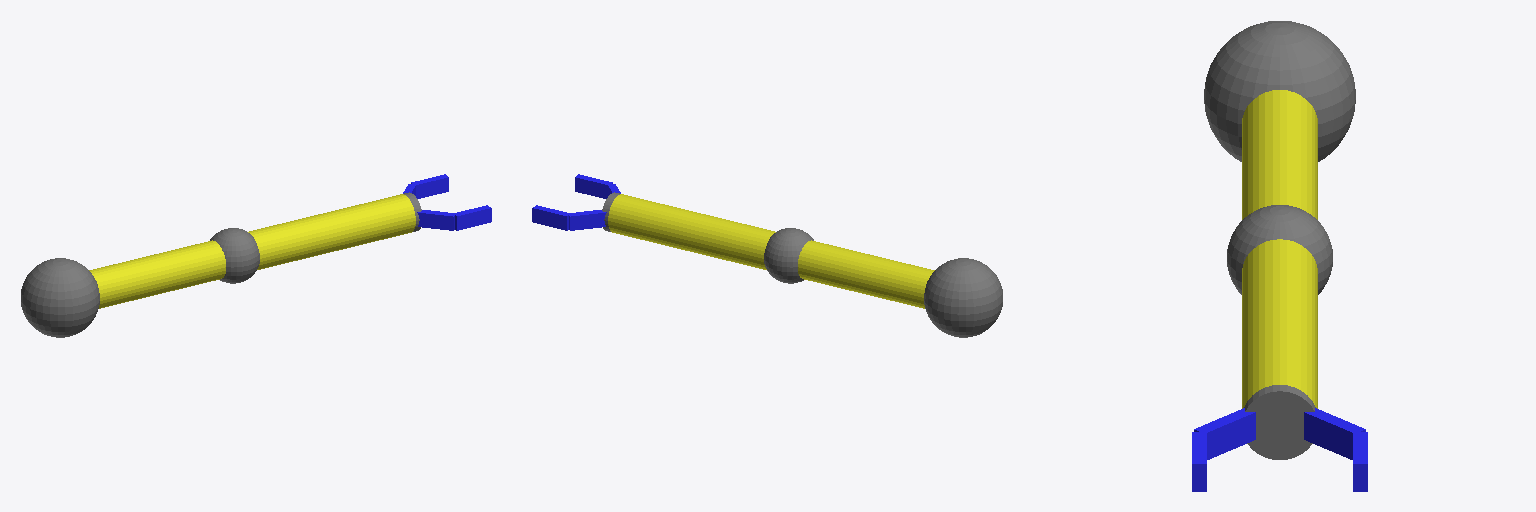
URDF robot description (gripper):
<?xml version="0.0" ?>
<robot name="gripper">

  <material name="c_joint">
    <color rgba="0.5 0.5 0.5 1"/>
  </material>

  <material name="c_arm">
    <color rgba="0.9 0.9 0.2 1"/>
  </material> 

  <material name="c_pincher">
    <color rgba="0.2 0.2 1.0 1"/>
  </material>   

  <link name="world" />

  <link name="base"/>

  <link name="shoulder">
    <visual>
      <origin xyz="0 0 0" rpy="0 0 0" />
      <geometry>
        <sphere radius="0.1"/>
      </geometry>
      <material name="c_joint"/>
    </visual>
    <inertial>
      <origin xyz="0 0 0" rpy="0 0 0" />
      <mass value="1."/>
      <inertia ixx="1.0" ixy="0.0" ixz="0.0" iyy="1.0" iyz="0.0" izz="1.0"/>
    </inertial>
  </link>

  <link name="upper_arm">
  	<visual>
  	  <origin xyz="0.25 0 0" rpy="0 1.57086 0" />
      <geometry>
        <cylinder length="0.5" radius="0.05"/>
      </geometry>
      <material name="c_arm"/>
    </visual>
    <collision>
      <origin xyz="0.25 0 0" rpy="0 1.57086 0" />
      <geometry>
        <cylinder length="0.5" radius="0.05"/>
      </geometry>
    </collision>
    <inertial>
      <origin xyz="0.25 0 0" rpy="0 0 0" />
      <mass value="1."/>
      <inertia ixx="1.0" ixy="0.0" ixz="0.0" iyy="1.0" iyz="0.0" izz="1.0"/>
    </inertial>
  </link>

  <link name="arm_elbow">
  	<visual>
  		<origin xyz="0 0 0" rpy="0 0 0" />
  		<geometry>
  			<sphere radius="0.07" />
  		</geometry>
  		<material name="c_joint"/>
  	</visual>
  	<inertial>
      <origin xyz="0 0 0" rpy="0 0 0" />
      <mass value="1."/>
      <inertia ixx="1.0" ixy="0.0" ixz="0.0" iyy="1.0" iyz="0.0" izz="1.0"/>
    </inertial>
  </link>

  <link name="lower_arm">
  	<visual>
  	  <origin xyz="0.25 0 0" rpy="0 1.57086 0" />
      <geometry>
        <cylinder length="0.5" radius="0.05"/>
      </geometry>
      <material name="c_arm"/>
    </visual>
    <collision>
      <origin xyz="0.25 0 0" rpy="0 1.57086 0" />
      <geometry>
        <cylinder length="0.5" radius="0.05"/>
      </geometry>
    </collision>
    <inertial>
      <origin xyz="0.25 0 0" rpy="0 1.5708 0" />
      <mass value="1."/>
      <inertia ixx="1.0" ixy="0.0" ixz="0.0" iyy="1.0" iyz="0.0" izz="1.0"/>
    </inertial>
  </link>

  <link name="wrist">
  	<visual>
  	  <origin xyz="0.01 0 0" rpy="0 1.57086 0" />
      <geometry>
        <cylinder length="0.02" radius="0.05"/>
      </geometry>
      <material name="c_joint"/>
    </visual>
    <collision>
      <origin xyz="0.01 0 0" rpy="0 1.57086 0" />
      <geometry>
        <cylinder length="0.02" radius="0.05"/>
      </geometry>
    </collision>
    <inertial>
      <origin xyz="0.01 0 0" rpy="0 1.5708 0" />
      <mass value="1."/>
      <inertia ixx="1.0" ixy="0.0" ixz="0.0" iyy="1.0" iyz="0.0" izz="1.0"/>
    </inertial>
  </link>

  <!-- Pincher -->
  <link name="pincher_bottom_right">
  	<visual>
  	  <origin xyz="0.05 0 0" rpy="0 0 0" />
      <geometry>
        <box size="0.1 0.02 0.04"/>
      </geometry>
      <material name="c_pincher"/>
    </visual>
    <collision>
      <origin xyz="0.05 0 0" rpy="0 0 0" />
      <geometry>
        <box size="0.1 0.02 0.04"/>
      </geometry>
    </collision>
    <inertial>
      <origin xyz="0.05 0 0" rpy="0 0 0" />
      <mass value="0.05"/>
      <inertia ixx="0.1" ixy="0.0" ixz="0.0" iyy="0.1" iyz="0.0" izz="0.1"/>
    </inertial>
    <contact>
      <lateral_friction value="1.0"/>
      <rolling_friction value="0.0"/>
      <contact_cfm value="0.0"/>
      <contact_erp value="1.0"/>
    </contact>
  </link>

  <link name="pincher_bottom_left">
  	<visual>
  	  <origin xyz="0.05 0 0" rpy="0 0 0" />
      <geometry>
        <box size="0.1 0.02 0.04"/>
      </geometry>
      <material name="c_pincher"/>
    </visual>
    <collision>
      <origin xyz="0.05 0 0" rpy="0 0 0" />
      <geometry>
        <box size="0.1 0.02 0.04"/>
      </geometry>
    </collision>
    <inertial>
      <origin xyz="0.05 0 0" rpy="0 0 0" />
      <mass value="0.05"/>
      <inertia ixx="0.1" ixy="0.0" ixz="0.0" iyy="0.1" iyz="0.0" izz="0.1"/>
    </inertial>
    <contact>
      <lateral_friction value="1.0"/>
      <rolling_friction value="0.0"/>
      <contact_cfm value="0.0"/>
      <contact_erp value="1.0"/>
    </contact>
  </link>

  <link name="pincher_top_right">
    <contact>
      <lateral_friction value="1.0"/>
      <inertia_scaling value="3.0"/>
    </contact>
  	<visual>
  	  <origin xyz="0.05 0 0" rpy="0 0 0" />
      <geometry>
        <box size="0.1 0.02 0.04"/>
      </geometry>
      <material name="c_pincher"/>
    </visual>
    <collision>
      <origin xyz="0.05 0 0" rpy="0 0 0" />
      <geometry>
        <box size="0.1 0.02 0.04"/>
      </geometry>
    </collision>
    <inertial>
      <origin xyz="0.05 0 0" rpy="0 0 0" />
      <mass value="0.05"/>
      <inertia ixx="0.1" ixy="0.0" ixz="0.0" iyy="0.1" iyz="0.0" izz="0.1"/>
    </inertial>
    <contact>
      <lateral_friction value="1.0"/>
      <rolling_friction value="0.0"/>
      <contact_cfm value="0.0"/>
      <contact_erp value="1.0"/>
    </contact>
  </link>

  <link name="pincher_top_left">
    <contact>
      <lateral_friction value="1.0"/>
      <inertia_scaling value="3.0"/>
    </contact>
  	<visual>
  	  <origin xyz="0.05 0 0" rpy="0 0 0" />
      <geometry>
        <box size="0.1 0.02 0.04"/>
      </geometry>
      <material name="c_pincher"/>
    </visual>
    <collision>
      <origin xyz="0.05 0 0" rpy="0 0 0" />
      <geometry>
        <box size="0.1 0.02 0.04"/>
      </geometry>
    </collision>
    <inertial>
      <origin xyz="0.05 0 0" rpy="0 0 0" />
      <mass value="0.05"/>
      <inertia ixx="0.1" ixy="0.0" ixz="0.0" iyy="0.1" iyz="0.0" izz="0.1"/>
    </inertial>
    <contact>
      <lateral_friction value="1.0"/>
      <rolling_friction value="0.0"/>
      <contact_cfm value="0.0"/>
      <contact_erp value="1.0"/>
    </contact>
  </link>

  <!-- Joints -->
  <joint name="world_joint"  type="fixed">
    <origin xyz="0 0 0" rpy="0 0 0" />
    <parent link="world"/>
    <child link="base"/>
  </joint>

  <joint name="joint_shoulder_z" type="revolute">
  	<parent link="base" />
  	<child link="shoulder" />
  	<origin xyz="0 0 0" rpy="0 0 0" />
  	<axis xyz="0 0 1" />
    <limit effort="10.0" lower="-1.57" upper="1.57" velocity="1"/>
  </joint>

  <joint name="joint_shoulder_y" type="revolute">
    <parent link="shoulder" />
    <child link="upper_arm" />
    <origin xyz="0 0 0" rpy="0 0 0" />
    <axis xyz="0 1 0" />
    <limit effort="10.0" lower="-1.57" upper="1.57" velocity="1"/>
  </joint>

  <joint name="joint_upper_z" type="revolute">
  	<parent link="upper_arm" />
  	<child link="arm_elbow" />
  	<origin xyz="0.5 0 0" rpy="0 0 0" />
  	<axis xyz="0 0 1" />
    <limit effort="10.0" lower="-2.36" upper="2.36" velocity="1"/>
  </joint>

  <joint name="joint_upper_y" type="revolute">
  	<parent link="arm_elbow" />
  	<child link="lower_arm" />
  	<origin xyz="0 0 0" rpy="0 0 0" />
  	<axis xyz="0 1 0" />
    <limit effort="10.0" lower="-2.36" upper="2.36" velocity="1"/>
  </joint>

  <joint name="joint_wrist_x" type="revolute">
  	<parent link="lower_arm" />
  	<child link="wrist" />
  	<origin xyz="0.5 0 0" rpy="0 0 0" />
  	<axis xyz="1 0 0" />
    <limit effort="0.01" lower="-3.14" upper="3.14" velocity="0.01"/>
  </joint>

  <joint name="joint_pincher_bottom_right" type="revolute">
  	<parent link="wrist" />
  	<child link="pincher_bottom_right" />
  	<origin xyz="0.01 -0.035 0" rpy="0 0 -0.7854" />
  	<axis xyz="0 0 1" />
    <limit effort="10.0" lower="-0.7854" upper="0.53" velocity="1"/>
  </joint>

  <joint name="joint_pincher_bottom_left" type="revolute">
  	<parent link="wrist" />
  	<child link="pincher_bottom_left" />
  	<origin xyz="0.01 0.035 0" rpy="0 0 0.7854" />
  	<axis xyz="0 0 1" />
  	<limit effort="10.0" lower="-0.53" upper="0.7854" velocity="1"/>
  </joint>

  <joint name="joint_pincher_top_right" type="fixed">
  	<parent link="pincher_bottom_right" />
  	<child link="pincher_top_right" />
  	<origin xyz="0.1 0 0" rpy="0 0 0.7854" />
  	<axis xyz="0 0 1" />
  </joint>

  <joint name="joint_pincher_top_left" type="fixed">
  	<parent link="pincher_bottom_left" />
  	<child link="pincher_top_left" />
  	<origin xyz="0.1 0 0" rpy="0 0 -0.7854" />
  	<axis xyz="0 0 1" />
  </joint>

</robot>

--- Facts derived from the render (not from the file) ---
Views: 3 orthographic renders of the robot side by side, from view 1: azimuth 30°, elevation 25°; view 2: azimuth 150°, elevation 25°; view 3: azimuth 270°, elevation 25°.
Robot: gripper — 11 links, 10 joints (7 revolute, 3 fixed); root link world; default pose: every joint at zero.
Visible links, largest first — view 1: lower_arm, upper_arm, shoulder, arm_elbow, pincher_top_right, pincher_bottom_right, pincher_top_left; view 2: lower_arm, upper_arm, shoulder, arm_elbow, pincher_top_left, pincher_bottom_left, pincher_top_right; view 3: shoulder, lower_arm, upper_arm, arm_elbow, wrist, pincher_bottom_right, pincher_bottom_left, pincher_top_left, pincher_top_right.
Boxes of the visible links, <box> form: lower_arm: <box>248,194,415,269</box>; upper_arm: <box>89,240,225,308</box>; shoulder: <box>21,258,99,337</box>; arm_elbow: <box>210,228,259,283</box>; pincher_top_right: <box>455,205,491,230</box>; pincher_bottom_right: <box>417,210,455,230</box>; pincher_top_left: <box>411,174,448,198</box>; lower_arm: <box>608,194,775,269</box>; upper_arm: <box>798,240,934,308</box>; shoulder: <box>924,258,1002,337</box>; arm_elbow: <box>764,228,813,283</box>; pincher_top_left: <box>532,205,568,230</box>; pincher_bottom_left: <box>568,210,606,230</box>; pincher_top_right: <box>575,174,612,198</box>; shoulder: <box>1204,21,1355,161</box>; lower_arm: <box>1242,239,1317,408</box>; upper_arm: <box>1242,90,1317,219</box>; arm_elbow: <box>1227,205,1332,294</box>; wrist: <box>1244,385,1315,459</box>; pincher_bottom_right: <box>1194,408,1255,459</box>; pincher_bottom_left: <box>1304,408,1365,459</box>; pincher_top_left: <box>1353,432,1367,491</box>; pincher_top_right: <box>1192,432,1206,491</box>.
Size in the robot's own frame: 1.28 by 0.2314 by 0.2 metres.
Geometry: primitives only (box / cylinder / sphere), no mesh files.